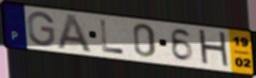0: (131, 22, 158, 60)
6: (169, 28, 195, 64)
A: (56, 13, 94, 54)
G: (26, 10, 57, 48)
H: (197, 28, 232, 70)
L: (98, 19, 126, 56)
